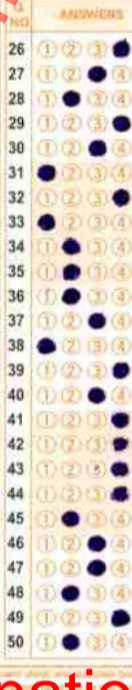filled circles: (87, 559, 105, 576), (88, 139, 106, 156), (37, 337, 55, 354), (88, 65, 106, 82), (62, 238, 80, 255), (37, 164, 55, 181), (61, 510, 79, 527), (111, 609, 129, 626), (113, 39, 130, 57), (112, 188, 129, 206), (88, 312, 105, 329), (113, 115, 130, 132), (63, 263, 80, 280), (62, 633, 79, 650), (62, 288, 80, 304), (61, 585, 79, 601), (87, 535, 105, 551), (112, 362, 129, 378), (63, 90, 80, 106), (111, 412, 128, 428), (38, 213, 54, 230), (88, 387, 104, 403), (111, 461, 128, 476), (111, 486, 128, 501), (113, 436, 128, 451)
